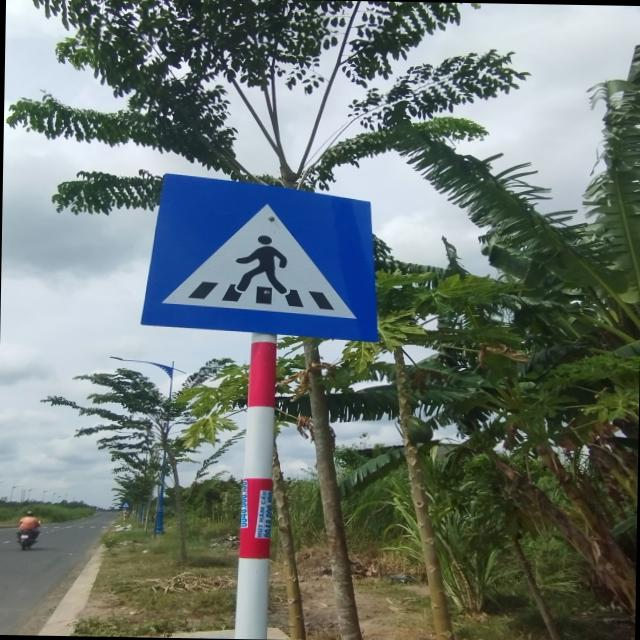Giao_Nhau_Duong_Uu_Tien: (142, 172, 380, 342)
